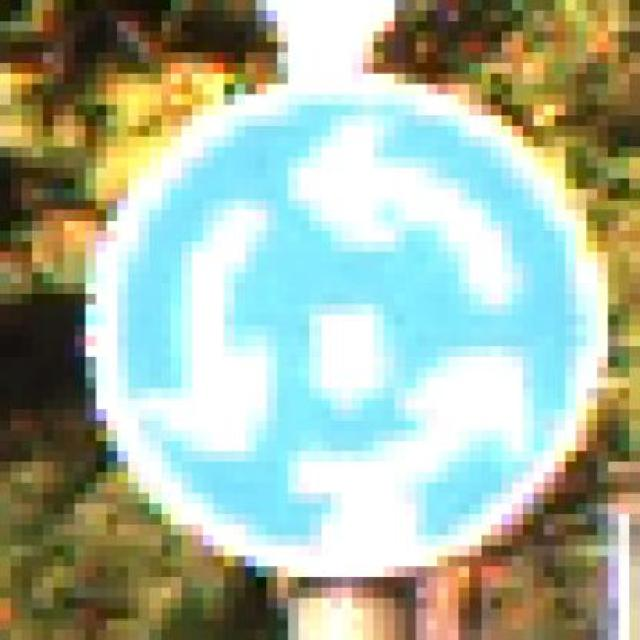Round-About: (32, 62, 630, 608)
